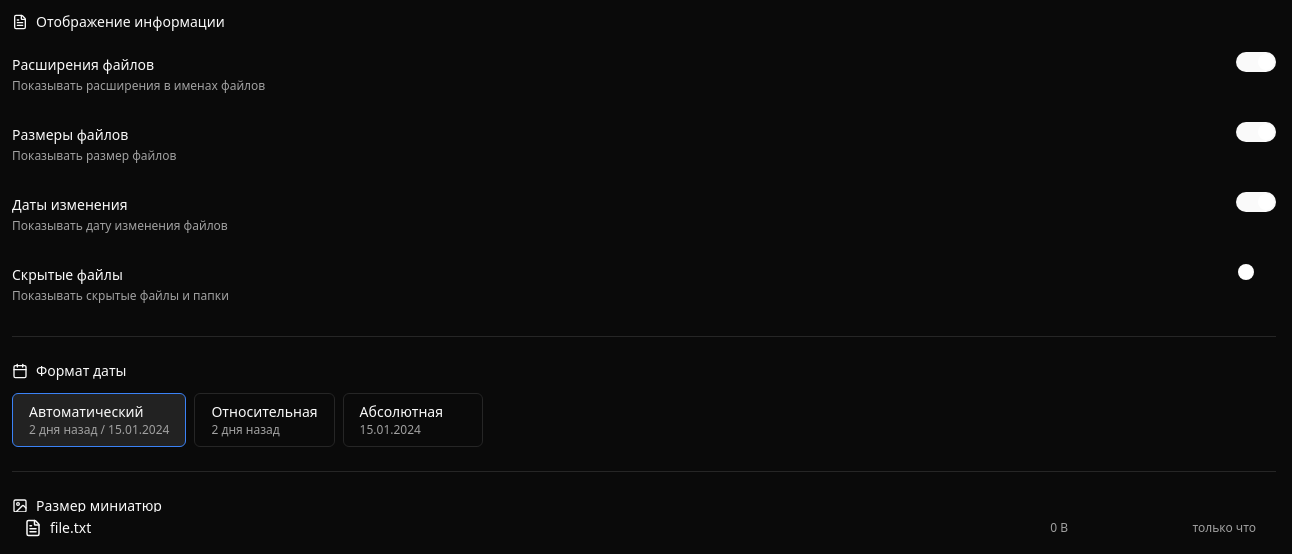
it: FileDisplaySettings integration › toggle 'Расширения файлов' updates store and FileRow re-renders accordingly
// Click toggle to hide extensions. Find the toggle by label text "Расширения файлов"
Click the switch named "Расширения файлов" at (1256, 62), box [1236,52,1276,72]
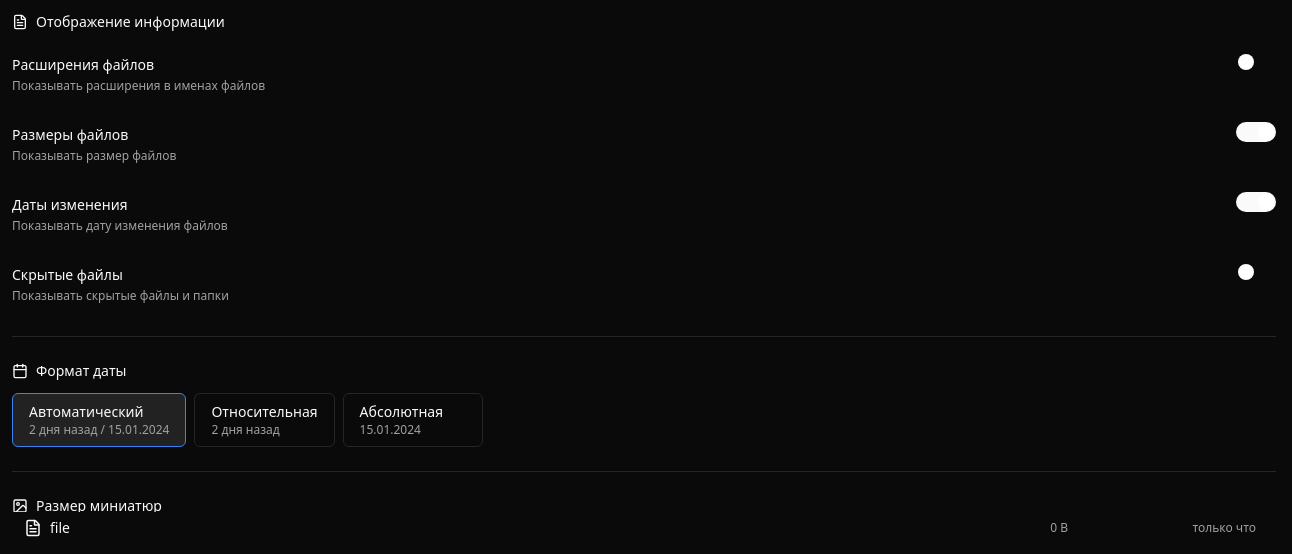
Expected: the text "file" is shown, [50,518,70,537]
Expected: the text "file.txt" is gone
